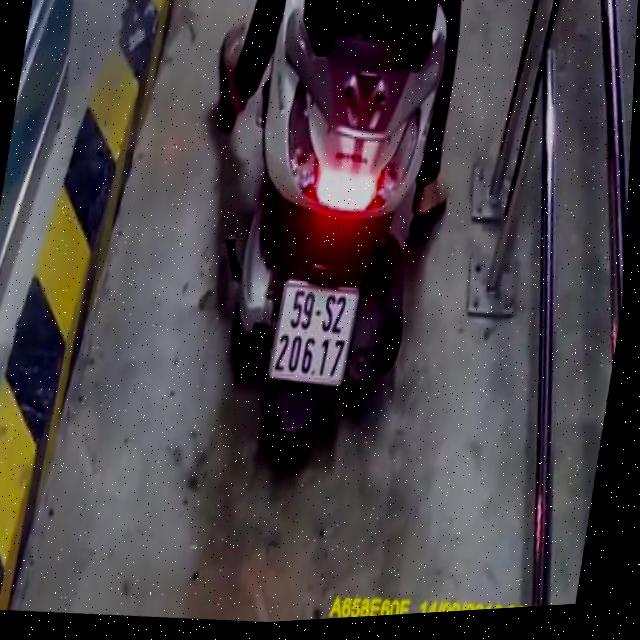motorcycle: (196, 0, 466, 493)
plate: (259, 266, 367, 398)
